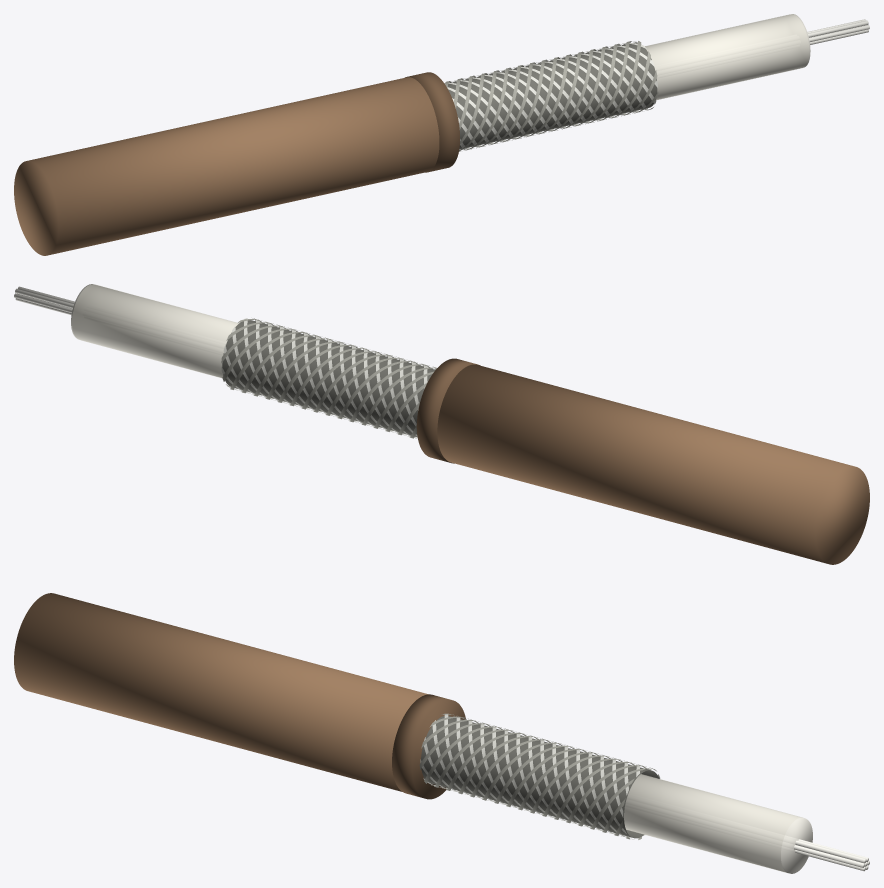
The picture shows the model from 3 angles, top to bottom: view 1: azimuth 30°, elevation 25°; view 2: azimuth 150°, elevation 25°; view 3: azimuth 330°, elevation 25°; orthographic projection. The views are drawn at different scales.
Parts seen in each view (by area): view 1: matte black pvc jacket body, smooth dielectric skin, gas injected foam dielectric, braid dark diamond recess, jacket cut lip, braid left hand woven carrier 01, braid left hand woven carrier 02, braid left hand woven carrier 10, braid left hand woven carrier 09, braid left hand woven carrier 03, braid left hand woven carrier 08, braid left hand woven carrier 04 (+2 smaller); view 2: matte black pvc jacket body, smooth dielectric skin, gas injected foam dielectric, braid dark diamond recess, jacket cut lip, braid left hand woven carrier 08, braid left hand woven carrier 07, braid left hand woven carrier 06, braid left hand woven carrier 09, braid left hand woven carrier 05, braid left hand woven carrier 10; view 3: matte black pvc jacket body, gas injected foam dielectric, smooth dielectric skin, braid dark diamond recess, jacket cut lip, braid left hand woven carrier 01, braid left hand woven carrier 10, braid left hand woven carrier 09, braid left hand woven carrier 02, braid left hand woven carrier 08, braid left hand woven carrier 03, braid left hand woven carrier 07.
Boxes of the visible parts, x1,y1,x2,y2 form: matte black pvc jacket body: [14, 77, 439, 255]; smooth dielectric skin: [645, 14, 808, 100]; gas injected foam dielectric: [645, 14, 810, 99]; braid dark diamond recess: [448, 42, 657, 149]; jacket cut lip: [405, 72, 459, 172]; braid left hand woven carrier 01: [459, 41, 631, 151]; braid left hand woven carrier 02: [463, 41, 641, 149]; braid left hand woven carrier 10: [459, 43, 620, 151]; braid left hand woven carrier 09: [460, 46, 608, 144]; braid left hand woven carrier 03: [475, 51, 650, 146]; braid left hand woven carrier 08: [459, 49, 596, 133]; braid left hand woven carrier 04: [487, 59, 657, 144]; matte black pvc jacket body: [437, 364, 869, 564]; smooth dielectric skin: [72, 284, 238, 378]; gas injected foam dielectric: [71, 284, 238, 377]; braid dark diamond recess: [222, 320, 435, 437]; jacket cut lip: [416, 358, 480, 463]; braid left hand woven carrier 08: [230, 332, 435, 422]; braid left hand woven carrier 07: [241, 335, 436, 425]; braid left hand woven carrier 06: [253, 338, 433, 428]; braid left hand woven carrier 09: [222, 328, 432, 419]; braid left hand woven carrier 05: [265, 341, 427, 431]; braid left hand woven carrier 10: [221, 325, 420, 415]; matte black pvc jacket body: [14, 593, 428, 791]; gas injected foam dielectric: [624, 774, 812, 873]; smooth dielectric skin: [624, 774, 802, 873]; braid dark diamond recess: [421, 716, 659, 838]; jacket cut lip: [392, 694, 465, 799]; braid left hand woven carrier 01: [446, 733, 656, 823]; braid left hand woven carrier 10: [434, 729, 647, 819]; braid left hand woven carrier 09: [424, 726, 634, 816]; braid left hand woven carrier 02: [458, 736, 646, 826]; braid left hand woven carrier 08: [419, 723, 622, 813]; braid left hand woven carrier 03: [470, 739, 634, 829]; braid left hand woven carrier 07: [421, 720, 641, 839].
Bounding box in the file's own units: 6.51 × 0.6792 × 0.8122.
